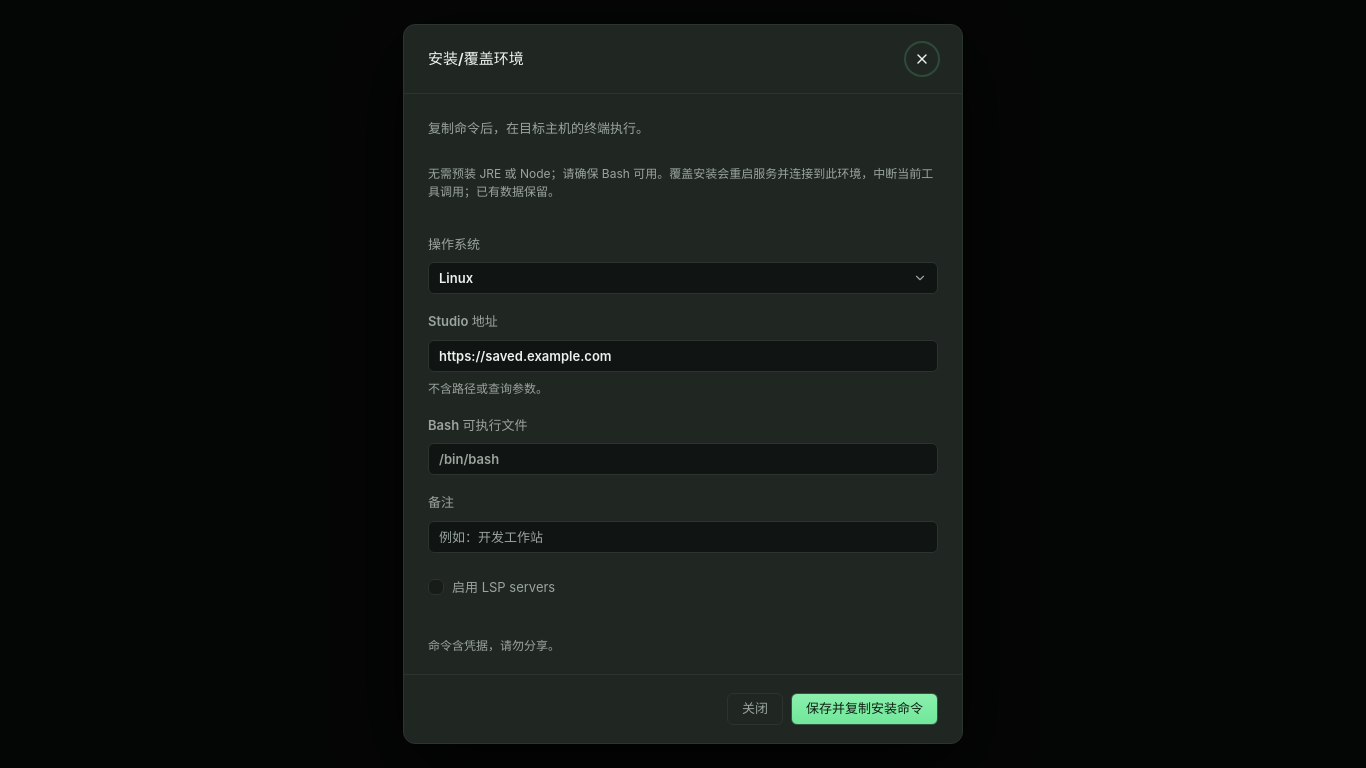
EnvironmentInstallModal › shows the LSP and Studio address help while editing
expect the button "保存并复制安装命令" is enabled: met, box [791, 693, 938, 725]
expect the text "不含路径或查询参数。" is shown: met, box [428, 381, 548, 396]
Click the checkbox at (492, 587), box [428, 579, 555, 595]
(page scrolled)
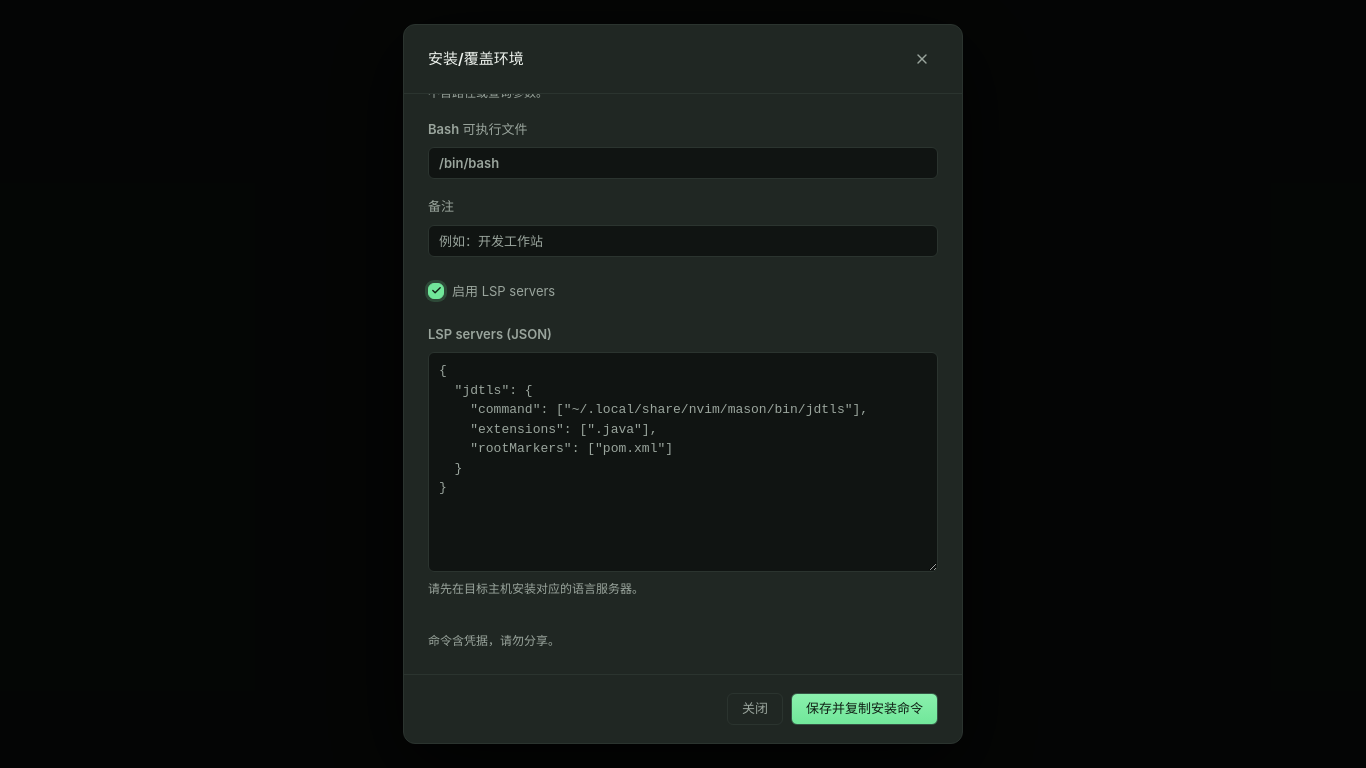
expect the text "请先在目标主机安装对应的语言服务器。" is shown: met, box [428, 581, 644, 596]
